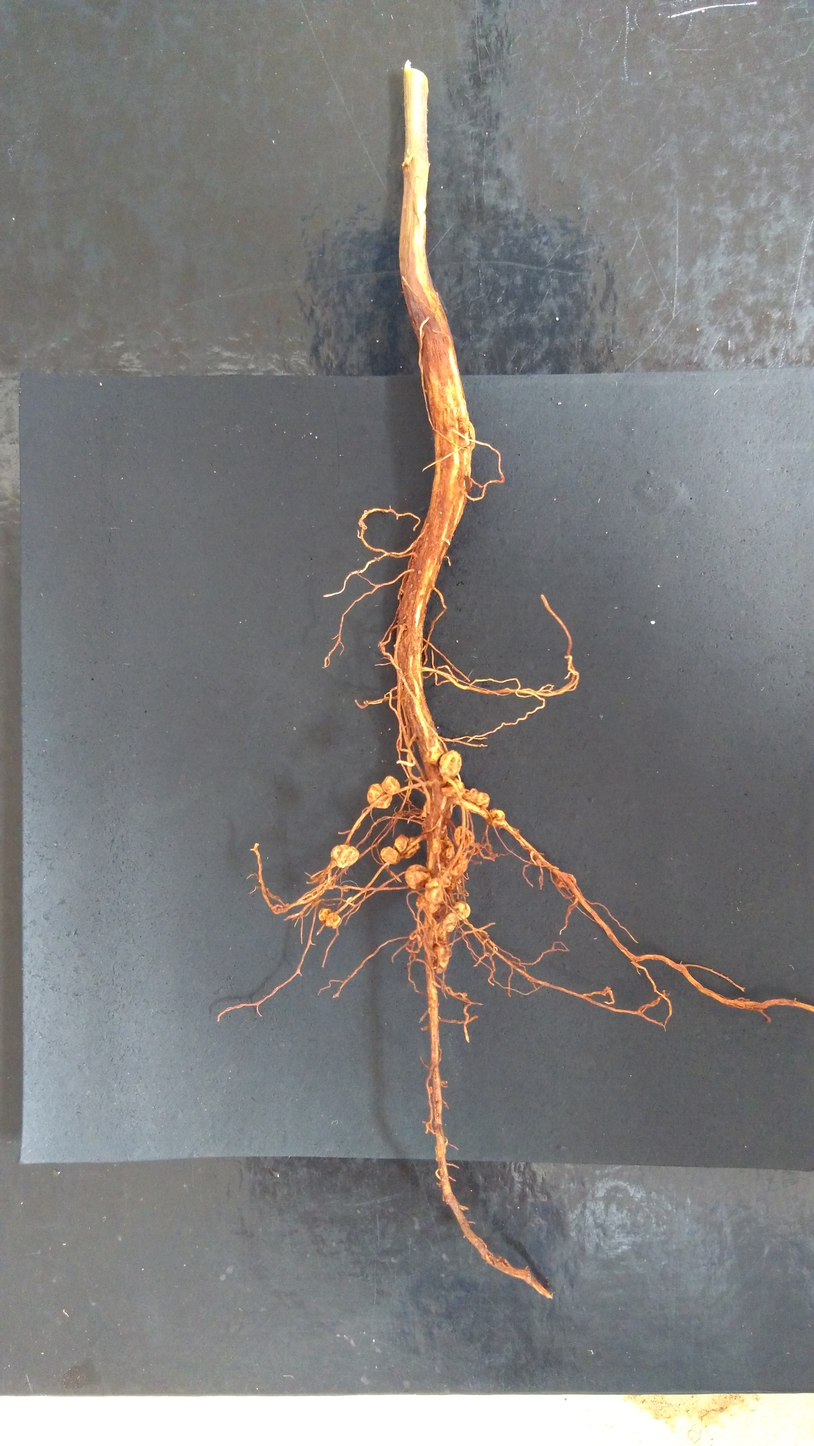nodule: (416, 920, 448, 947), (463, 788, 490, 815), (439, 750, 463, 780), (405, 864, 432, 890), (330, 844, 359, 868), (367, 782, 392, 809), (440, 776, 466, 801), (393, 834, 420, 858), (424, 877, 448, 904), (431, 942, 450, 974), (431, 835, 455, 860), (444, 852, 468, 876), (416, 890, 440, 914), (453, 825, 474, 848), (449, 899, 471, 920), (555, 871, 577, 889), (381, 775, 400, 795), (426, 745, 444, 766), (380, 846, 401, 864), (487, 809, 505, 829), (441, 911, 458, 932), (420, 798, 434, 818), (325, 912, 341, 928), (437, 868, 451, 886), (434, 824, 448, 840), (318, 907, 331, 923), (467, 841, 481, 855), (421, 819, 434, 832), (271, 904, 284, 912), (342, 883, 351, 892), (427, 1085, 434, 1094), (535, 858, 542, 865)
